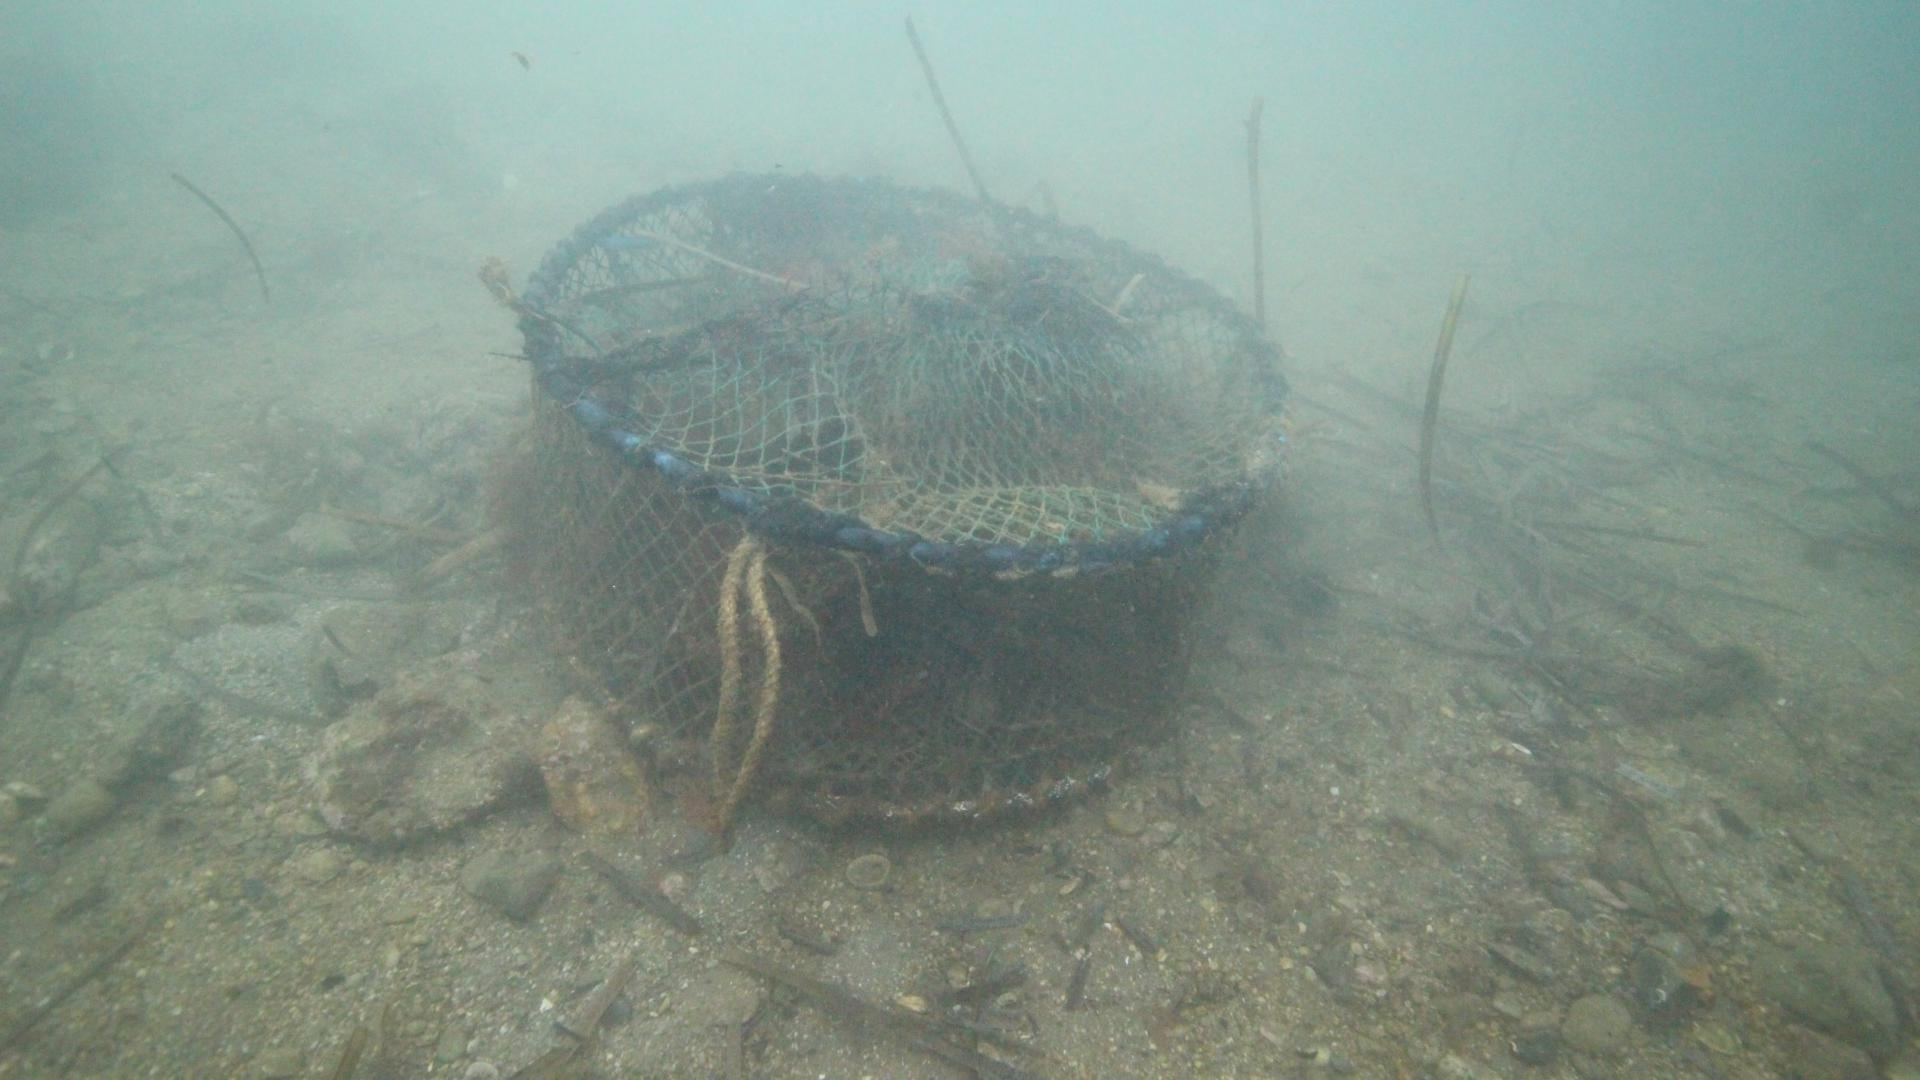circular fish trap: (516, 167, 1290, 829)
